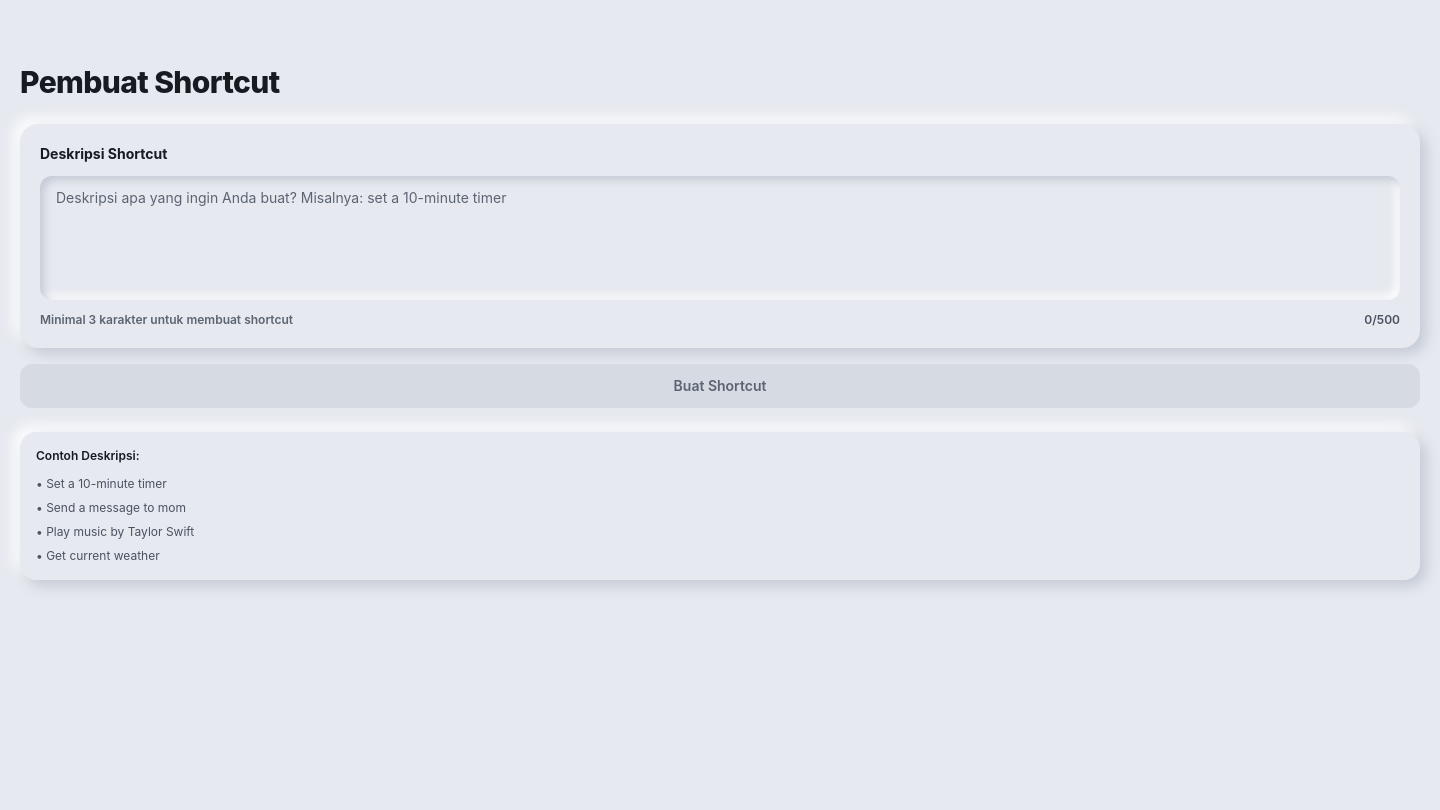
Test: ShortcutsScreen - E2E Frontend Tests › 1. Happy Path: Valid Shortcut Generation › shows a network message when the request itself fails
Type "set a timer" into the text box with placeholder "Deskripsi apa" at (720, 238), box left=40, top=176, right=1400, bottom=300
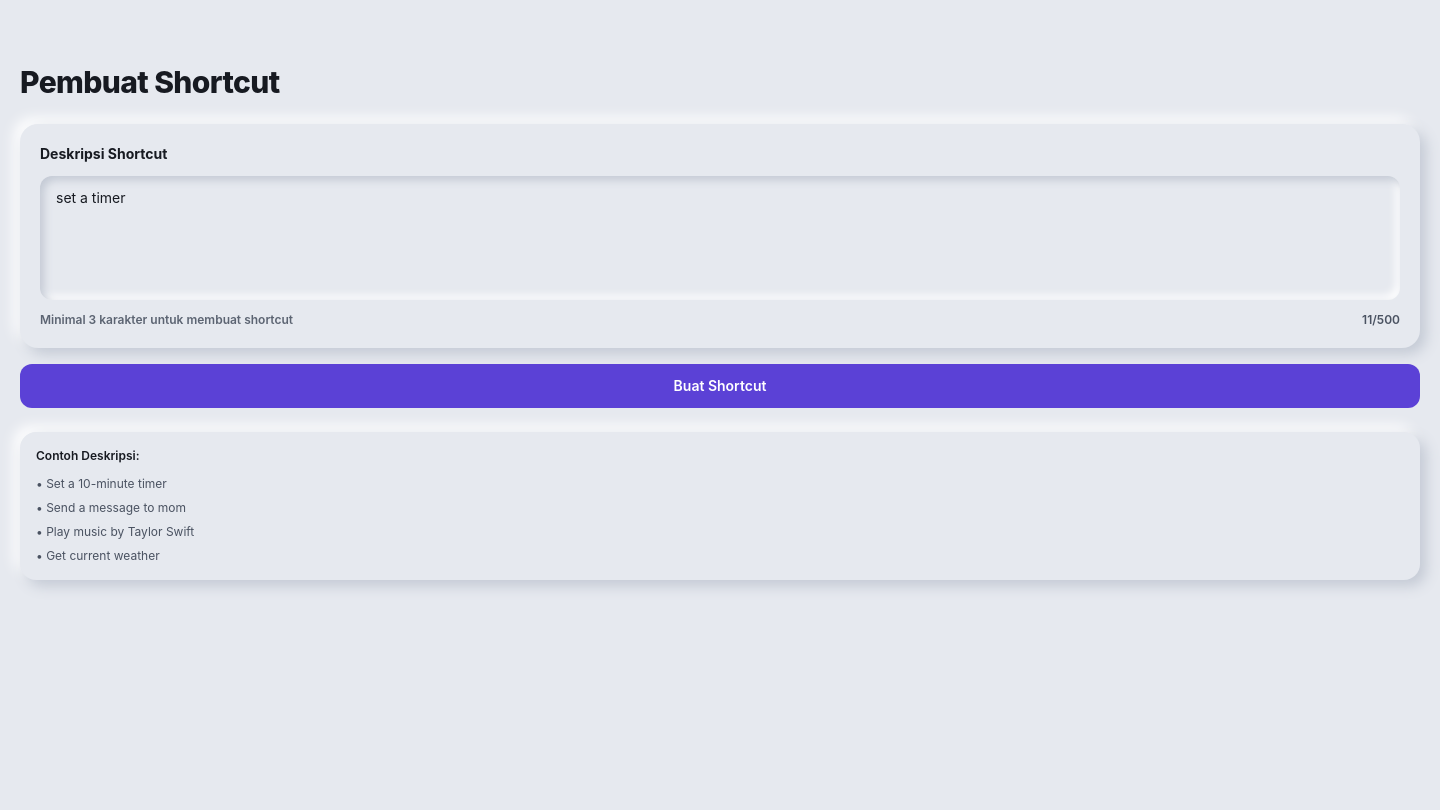
Click the button "Buat Shortcut" at (720, 386), box left=20, top=364, right=1420, bottom=408
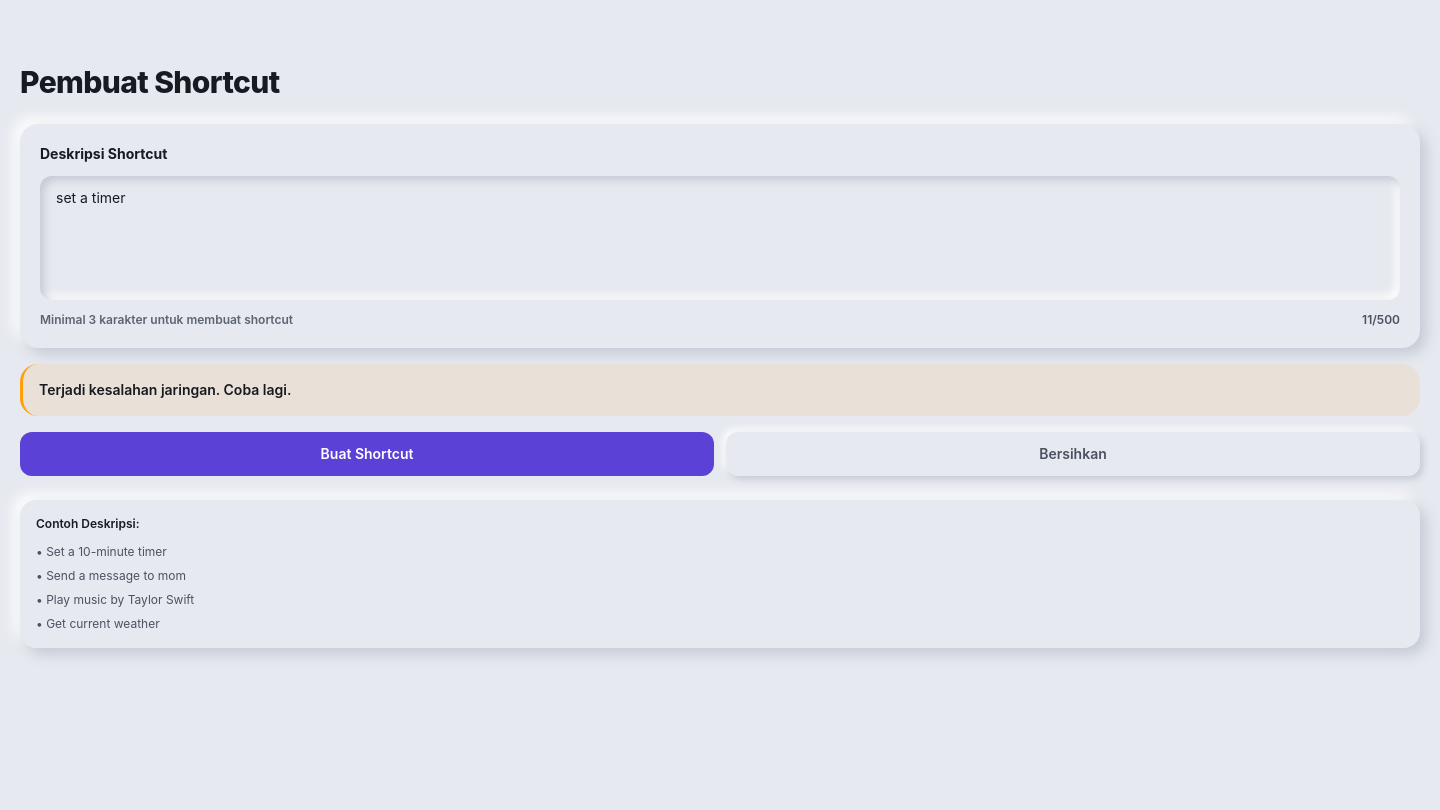
Expected: the text "Terjadi kesalahan jaringan. Coba lagi." is shown, left=39, top=381, right=291, bottom=398
